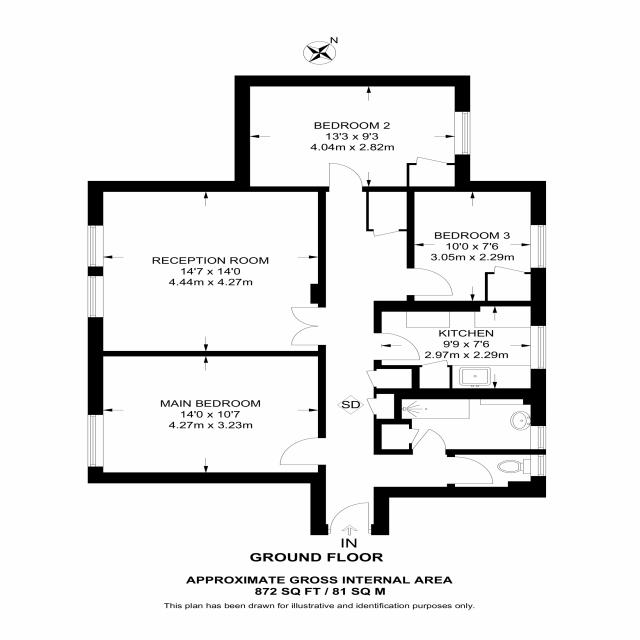DOOR: (406, 266, 456, 300), (275, 435, 326, 468), (374, 330, 423, 363), (327, 500, 371, 535), (447, 455, 496, 486), (325, 160, 365, 192), (409, 426, 450, 455)
DOUBLE DOOR: (286, 305, 326, 348)
ROOM: (88, 181, 326, 357), (88, 350, 326, 483), (234, 75, 472, 192), (407, 181, 546, 312), (374, 300, 546, 389)
WINDOW: (85, 413, 105, 468), (529, 322, 550, 373), (527, 223, 549, 271), (452, 109, 472, 156), (86, 223, 105, 268), (86, 275, 105, 318), (529, 422, 547, 451), (530, 454, 547, 477)
